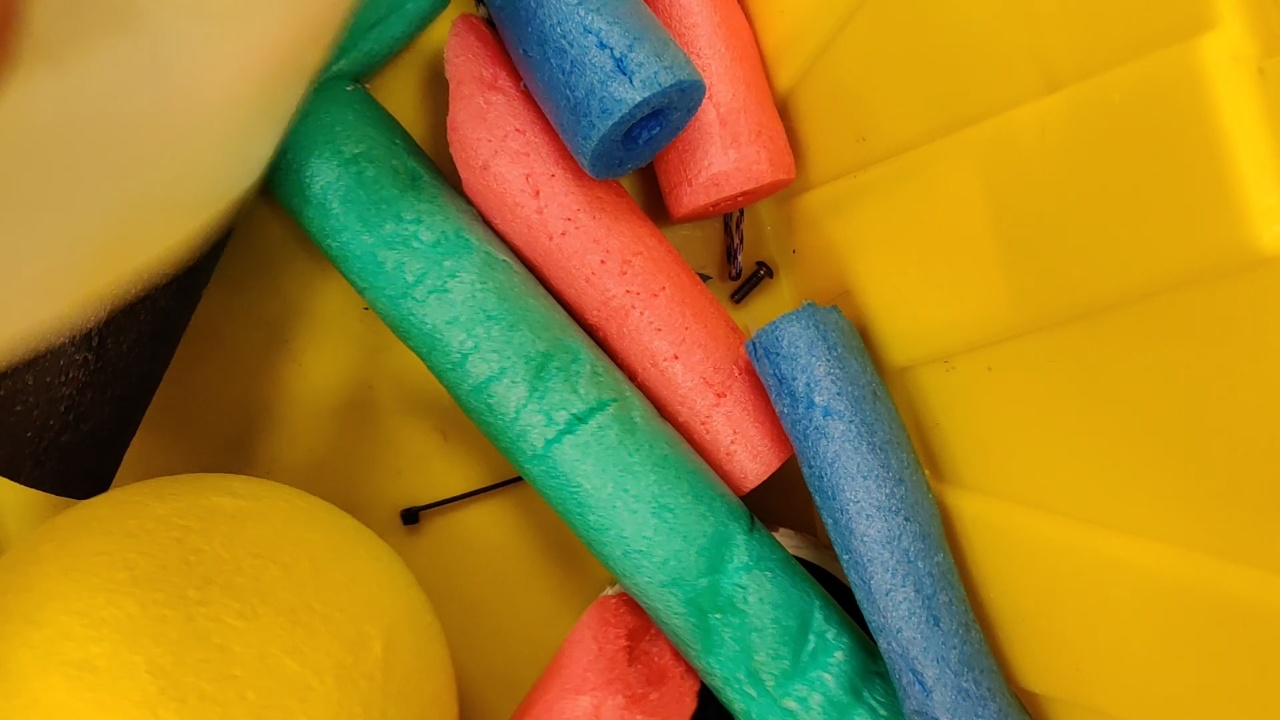Ball: (1, 471, 461, 718)
